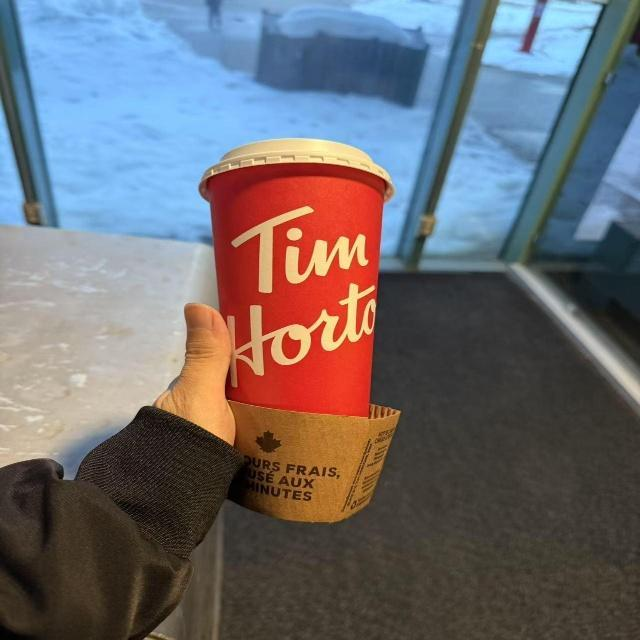timmies: (190, 134, 424, 420)
